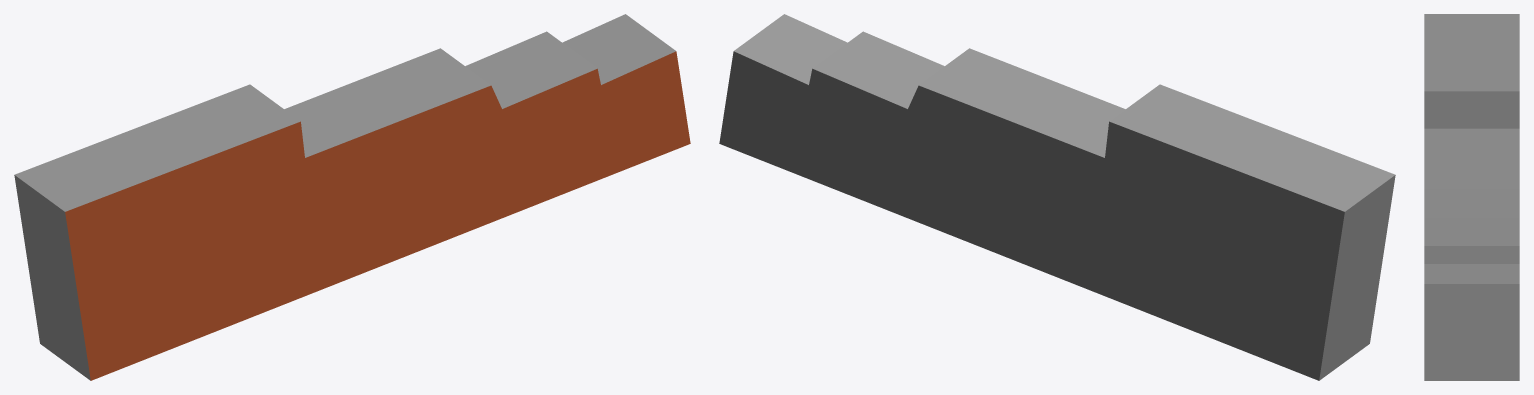
Rendered from construction_6513_assumed_A_Casa_h6m.obj.
3 views of the same model, side by side, from view 1: azimuth 30°, elevation 25°; view 2: azimuth 150°, elevation 25°; view 3: azimuth 270°, elevation 25° (orthographic). The views are drawn at different scales.
Visible parts, largest first — view 1: construction_6513_assumed_A_Casa; view 2: construction_6513_assumed_A_Casa; view 3: construction_6513_assumed_A_Casa.
Part boxes in pixels (x1,y1,x2,y2): construction_6513_assumed_A_Casa: (14, 14, 690, 380); construction_6513_assumed_A_Casa: (719, 14, 1395, 380); construction_6513_assumed_A_Casa: (1424, 14, 1519, 380).
Size of the model in its own units: 42.67 by 13.57 by 6.
